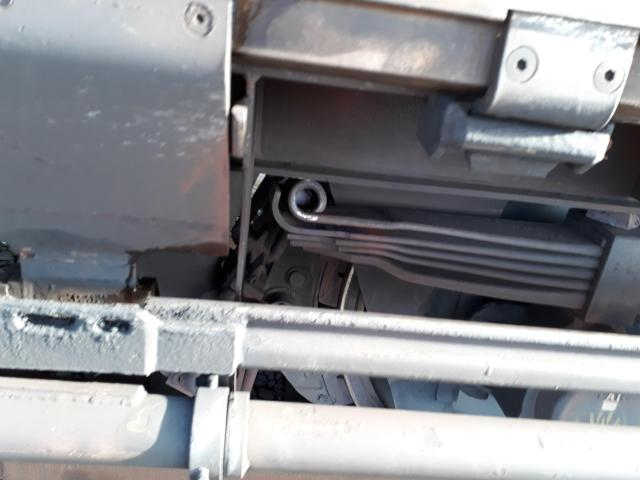blattfederww: (265, 177, 584, 302)
